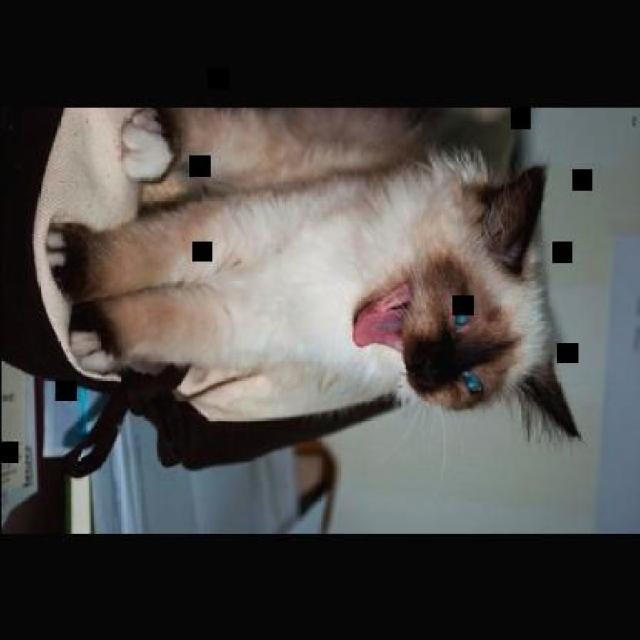unauthorized: (43, 110, 583, 448)
